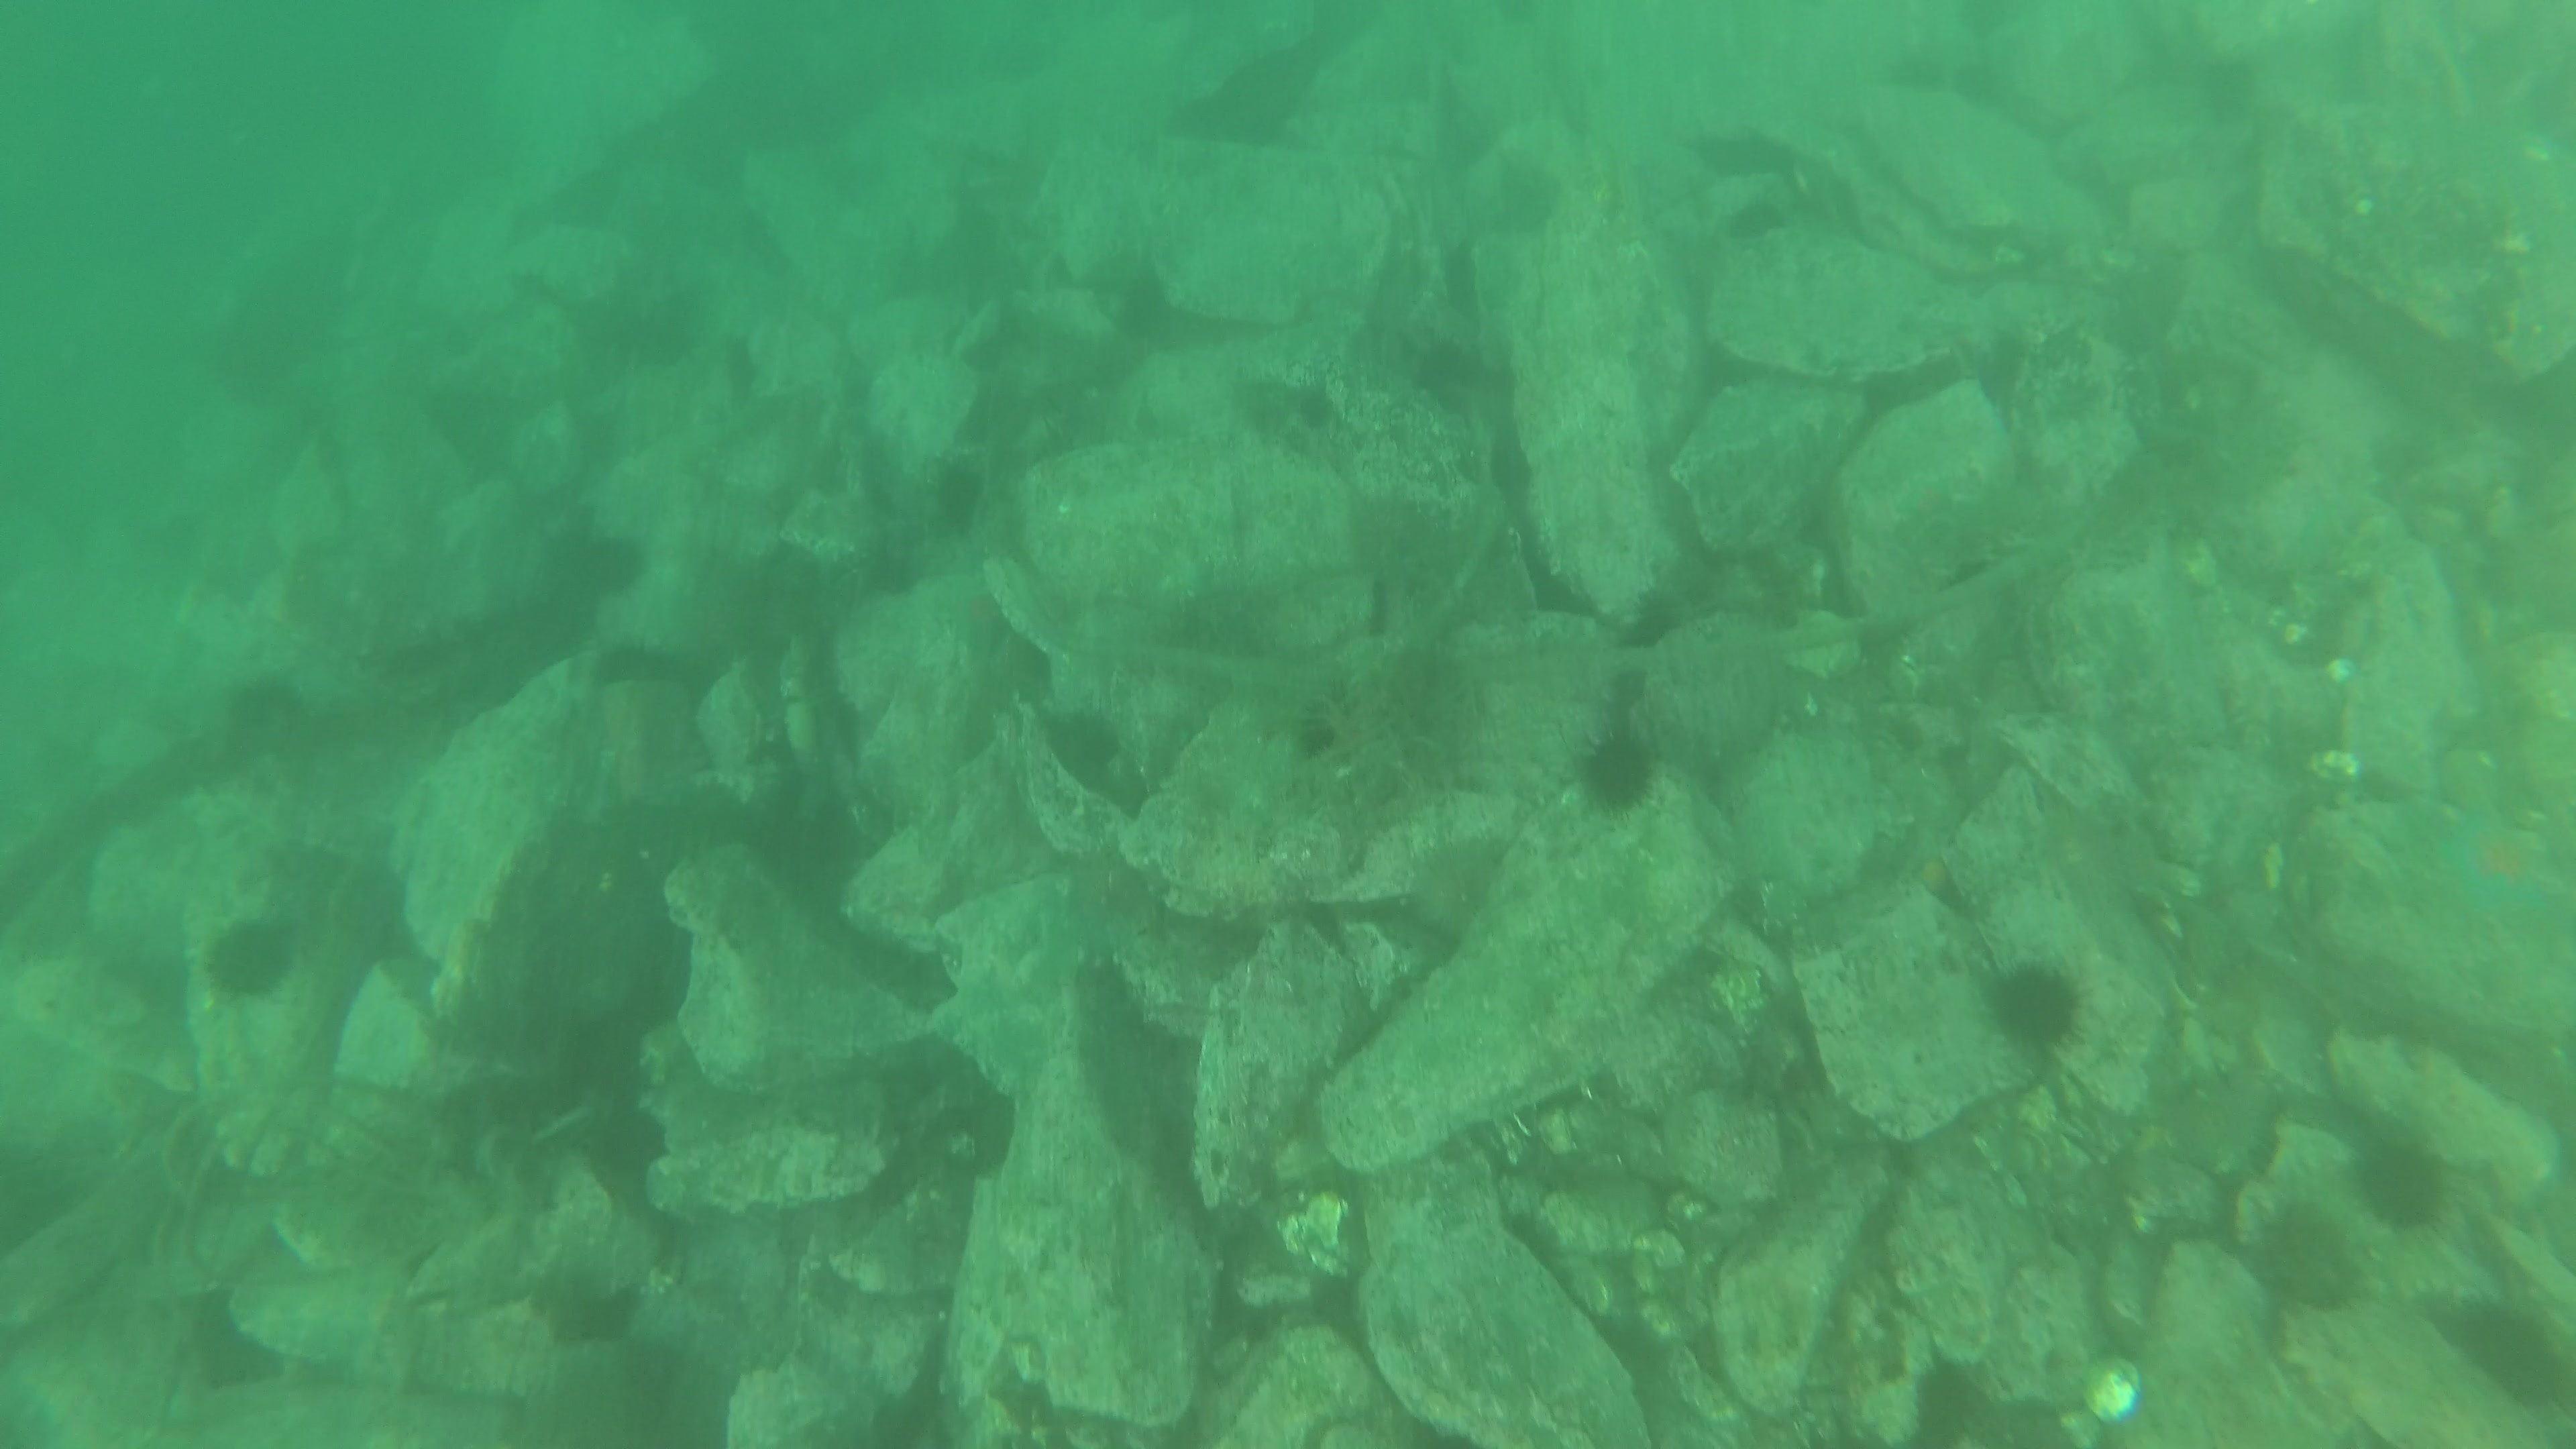echinus: (2438, 1292, 2571, 1419), (2245, 1196, 2369, 1316), (1976, 952, 2093, 1060), (2346, 1129, 2457, 1237), (200, 909, 303, 1008), (1568, 720, 1665, 819), (1039, 699, 1131, 793), (922, 449, 994, 538), (1614, 589, 1675, 648), (591, 536, 648, 594), (602, 640, 669, 688)
starfish: (2431, 803, 2567, 927), (1893, 816, 1976, 918)
